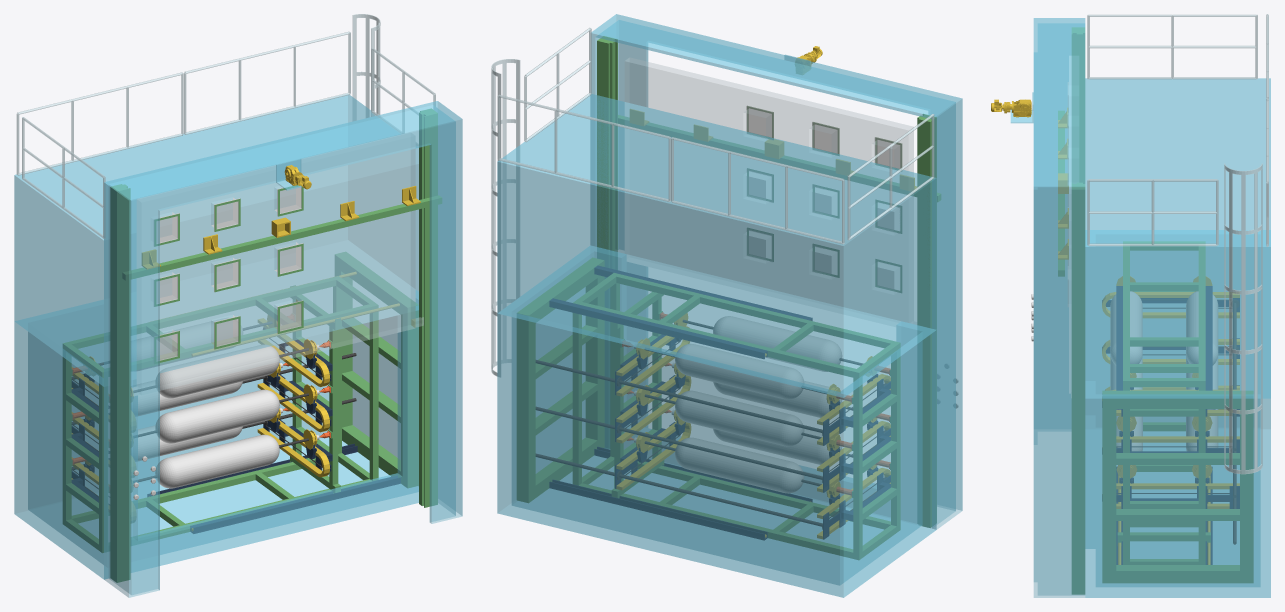
3 views of the same model, side by side, from view 1: azimuth 30°, elevation 25°; view 2: azimuth 150°, elevation 25°; view 3: azimuth 270°, elevation 25° (orthographic). The views are drawn at different scales.
Visible parts, largest first — view 1: 炉体.001, 门框架, 炉体, 门体, 导轨, 小框架, 大框架, 窗, 气瓶5, 气瓶3, 气瓶, 移动框架 (+15 smaller); view 2: 炉体.001, 炉体, 门框架, 小框架, 门体, 大框架, 导轨, 螺杆罩, 窗, 爬梯护栏, 气瓶4, 气瓶6 (+20 smaller); view 3: 炉体.001, 炉体, 门框架, 大框架, 小框架, 导轨, 爬梯护栏, 移动框架, 护栏4, 护栏1, 螺杆罩, 气瓶 (+13 smaller).
Boxes of the visible parts, x1,y1,x2,y2 form: 炉体.001: (14,94,418,386); 门框架: (104,101,462,597); 炉体: (14,290,418,579); 门体: (160,148,423,390); 导轨: (110,108,437,582); 小框架: (63,276,378,552); 大框架: (335,252,418,487); 窗: (154,185,303,363); 气瓶5: (155,434,279,488); 气瓶3: (155,389,279,443); 气瓶: (155,345,279,398); 移动框架: (290,285,340,493); 炉体.001: (497,94,936,397); 炉体: (497,246,936,597); 门框架: (590,14,962,529); 小框架: (573,273,900,559); 门体: (625,57,913,172); 大框架: (517,257,604,502); 导轨: (597,36,936,527); 螺杆罩: (549,265,812,540); 窗: (746,105,902,292); 爬梯护栏: (491,59,520,377); 气瓶4: (675,391,803,446); 气瓶6: (675,438,803,493); 炉体.001: (1085,78,1270,398); 炉体: (1085,230,1270,597); 门框架: (1010,18,1085,597); 大框架: (1102,391,1253,582); 小框架: (1123,241,1205,564); 导轨: (1072,27,1084,594); 爬梯护栏: (1224,163,1262,474); 移动框架: (1118,364,1210,542); 护栏4: (1087,14,1257,79); 护栏1: (1087,179,1218,246); 螺杆罩: (1116,286,1212,564); 气瓶: (1110,291,1142,364).
Bounding box in the file's own units: 6.09 × 6.98 × 4.07.
